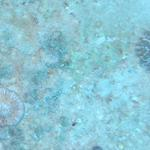dead: (5, 6, 146, 145)
